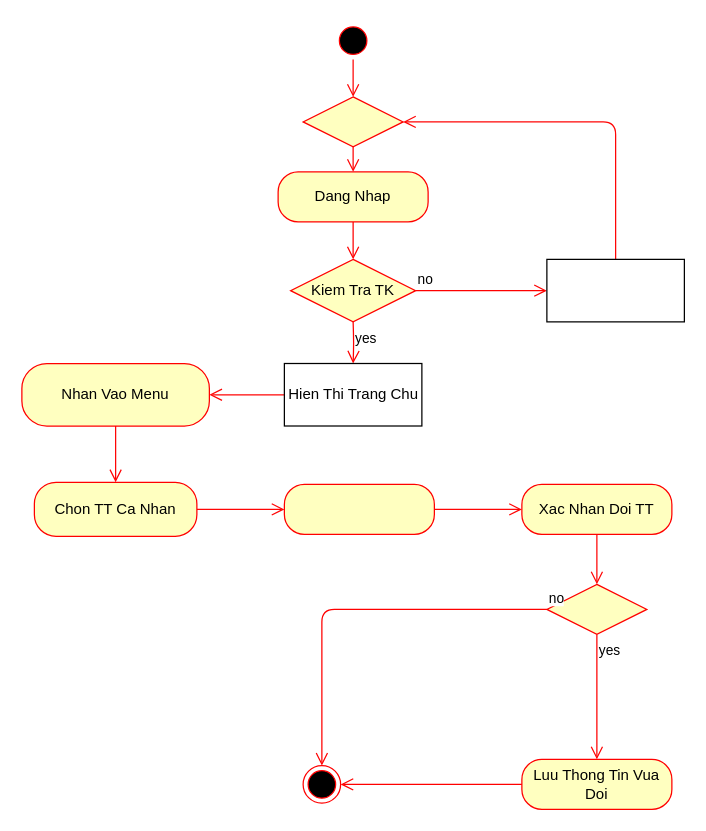
Some shapes in this 706 by 831 pixel diagram are drawn without their labels. The shapes that lost their labels are listed below. From the top down, each one's centre as x and y in pixels, then its label:
the point at 615,290: Thong Bao Sai
the point at 358,508: Thay Thoi TT Ca Nhan
the point at 596,608: Condition
